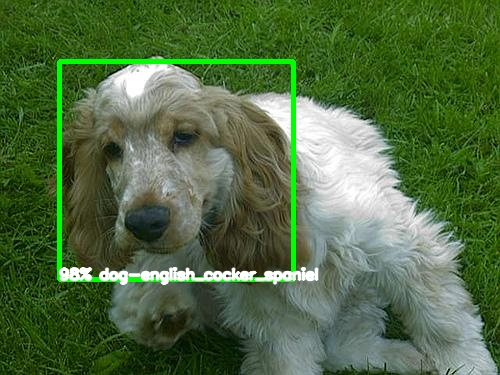dog-english_cocker_spaniel: (59, 56, 301, 282)
